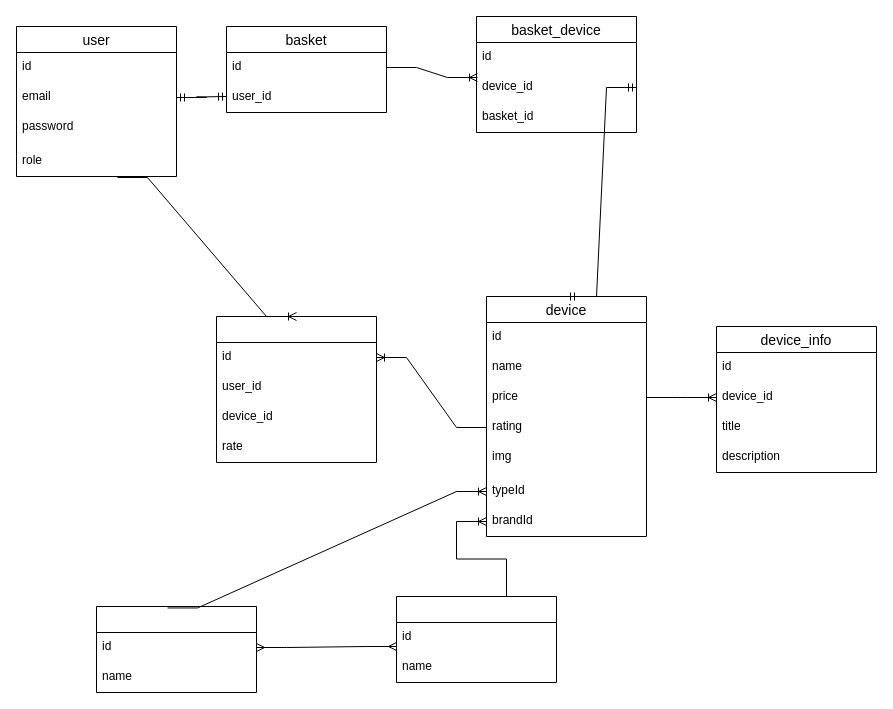
Some shapes in this 893 by 709 pixel diagram are drawn without their labels. The box of each missing label's shape, as (x1, y1, x2, y2) in pixels:
brand: (396, 596, 556, 682)
raitng: (216, 316, 376, 462)
type: (96, 606, 256, 692)
